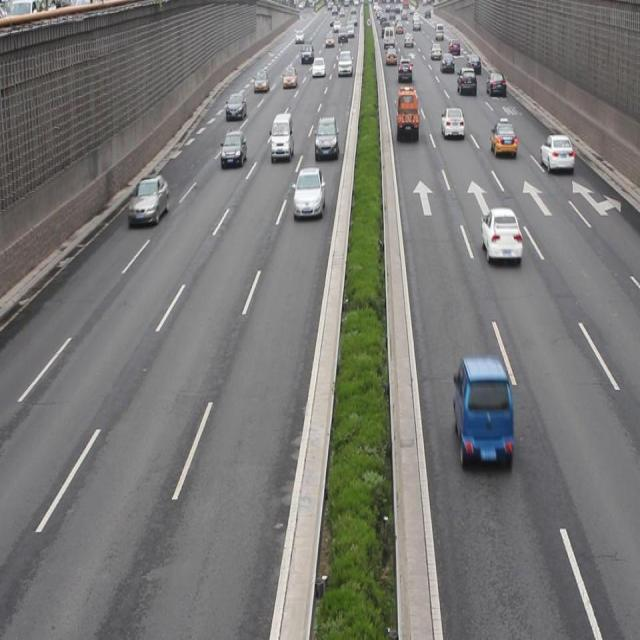bus: (396, 86, 417, 140)
car: (452, 356, 512, 470), (480, 206, 521, 266), (126, 173, 169, 224), (292, 167, 322, 218), (539, 135, 573, 176), (488, 119, 515, 158), (439, 106, 464, 142), (220, 130, 245, 165), (315, 118, 337, 157)
truck: (270, 112, 293, 158)
